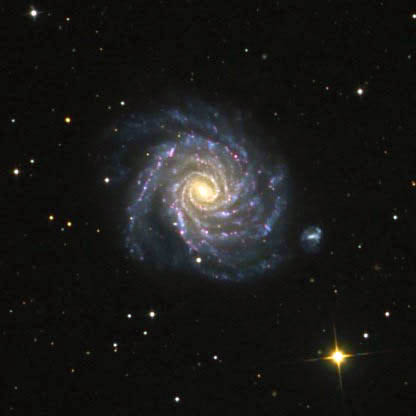NGC 1232: (100, 99, 331, 277)
